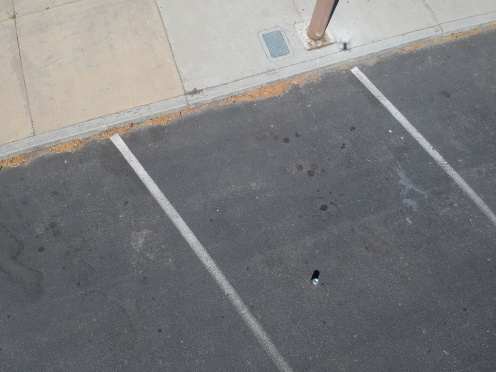can: (303, 276, 322, 289)
